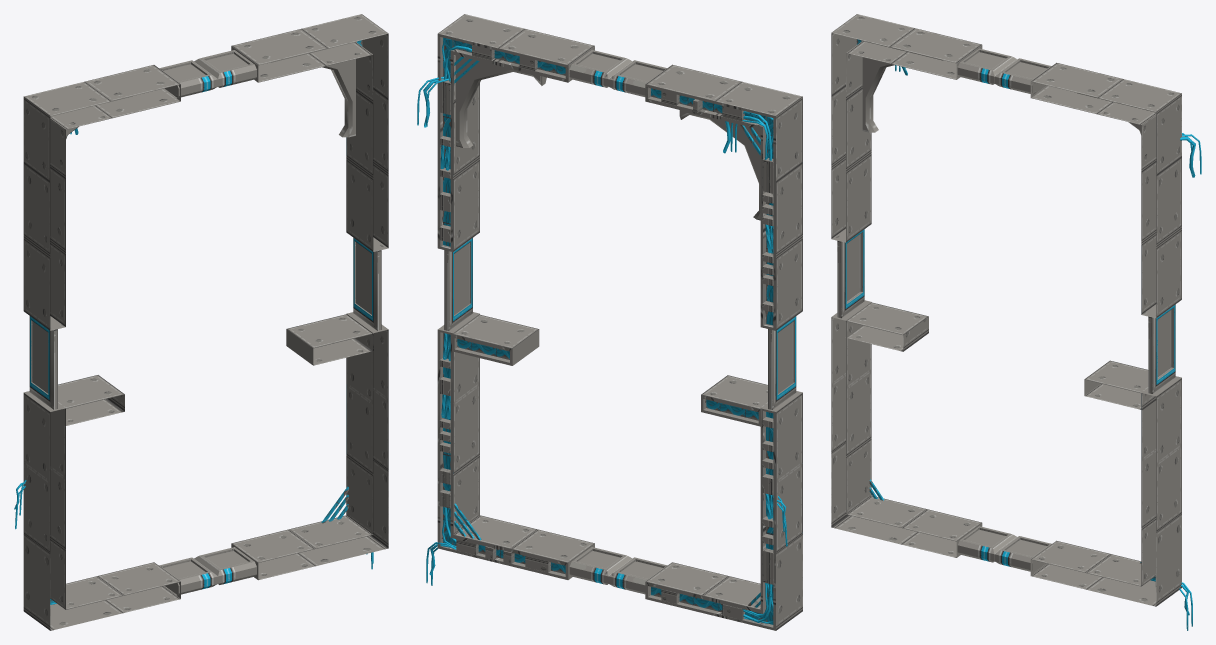
File: TestRoom7FBX.fbx
3 views of the same model, side by side, from view 1: azimuth 30°, elevation 25°; view 2: azimuth 150°, elevation 25°; view 3: azimuth 330°, elevation 25° (orthographic). The views are drawn at different scales.
Visible parts, largest first — view 1: CornerBase13, CornerBase12, CornerBase4, CornerBase, CornerBase16, TopDoorLeft (×2), CornerBase15, TopDoorRight (×2), RightSideDoor, LeftSideDoor, Arch; view 2: CornerBase13, CornerBase12, CornerBase4, CornerBase, CornerBase16, Arch (×2), TopDoorLeft (×2), CornerBase15, TopDoorRight (×2), RightSideDoor, LeftSideDoor; view 3: CornerBase, CornerBase4, CornerBase12, CornerBase13, CornerBase15, TopDoorRight (×2), CornerBase16, TopDoorLeft (×2), LeftSideDoor, RightSideDoor, Arch.
Part boxes in pixels (x1,y1,x2,y2): CornerBase13: (23,65,180,330); CornerBase12: (23,391,180,630); CornerBase4: (231,312,388,580); CornerBase: (231,14,388,251); CornerBase16: (286,314,373,365); TopDoorLeft (×2): (194,50,256,584); CornerBase15: (50,375,124,426); TopDoorRight (×2): (159,60,217,595); RightSideDoor: (29,316,57,409); LeftSideDoor: (353,238,381,330); Arch: (272,41,356,137); CornerBase13: (645,64,802,330); CornerBase12: (645,391,802,630); CornerBase4: (437,312,594,579); CornerBase: (437,14,594,251); CornerBase16: (452,314,539,365); Arch (×2): (456,55,760,220); TopDoorLeft (×2): (569,50,632,584); CornerBase15: (701,375,767,426); TopDoorRight (×2): (608,60,667,594); RightSideDoor: (768,316,796,409); LeftSideDoor: (444,238,472,330); CornerBase: (1030,62,1181,318); CornerBase4: (1030,376,1181,606); CornerBase12: (831,300,982,557); CornerBase13: (831,14,982,242); CornerBase15: (845,302,928,351); TopDoorRight (×2): (957,48,1017,562); CornerBase16: (1084,360,1156,410); TopDoorLeft (×2): (994,58,1051,572); LeftSideDoor: (1148,304,1175,393); RightSideDoor: (837,229,864,318); Arch: (861,40,942,132).
Size of the model in its own units: 23.34 by 34.43 by 4.03.
